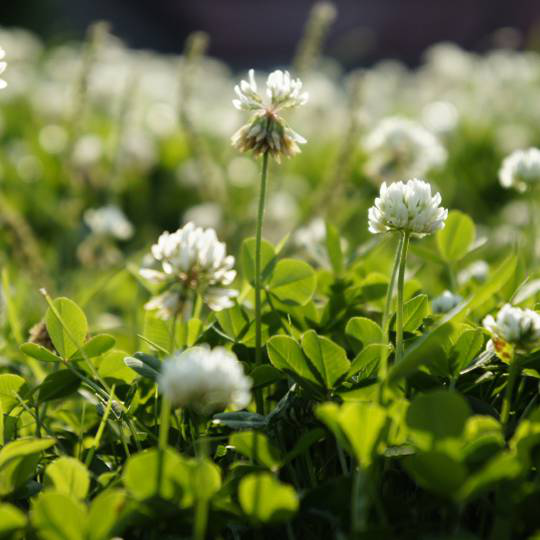clover: (140, 41, 538, 523), (15, 280, 122, 388)
